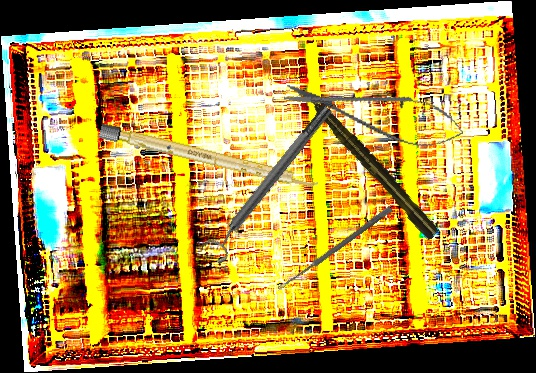Fixation Ring: (197, 99, 342, 266)
Handpiece: (296, 84, 442, 242)
Micro Scissor: (279, 68, 469, 157)
Scalpel Handle: (98, 123, 320, 192)
Surgical Spoon: (277, 205, 393, 292)
